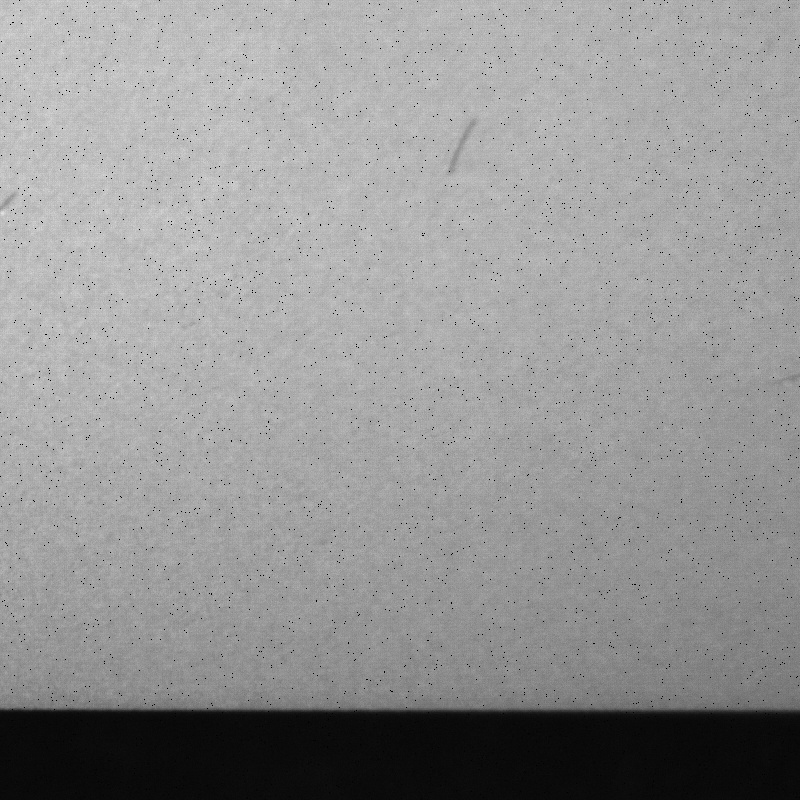defect: (444, 113, 482, 179), (1, 184, 22, 217)
